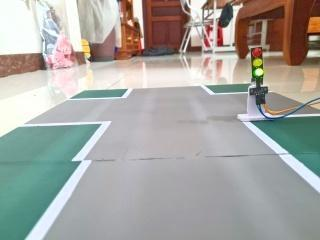green: (244, 45, 272, 94)
